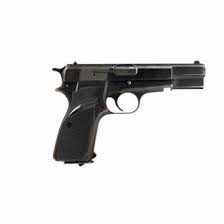gun: (49, 60, 206, 165)
